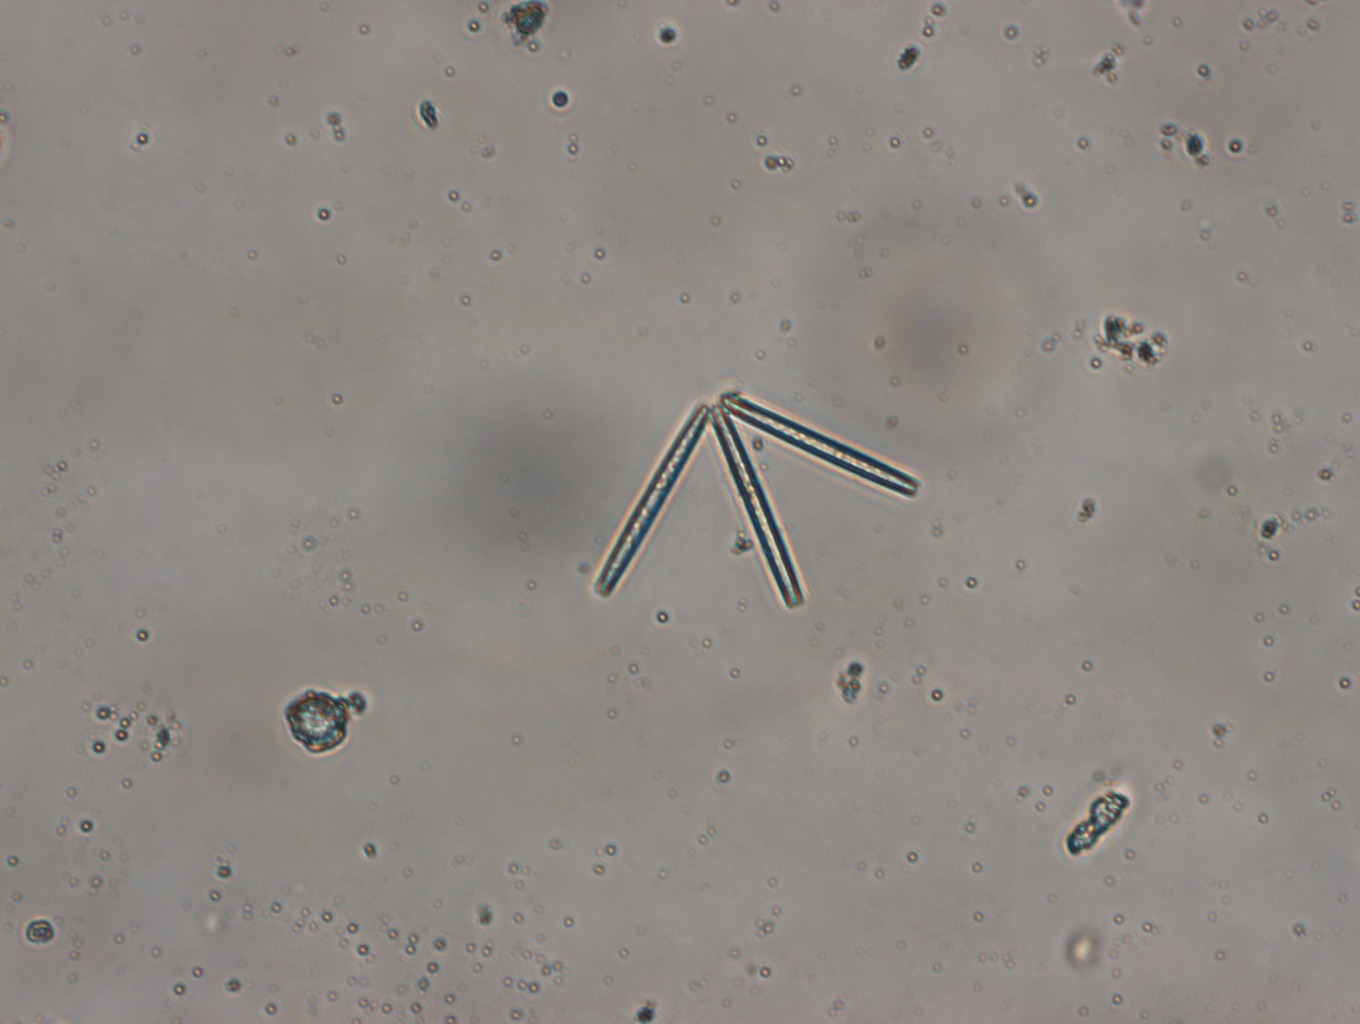thalassionema nitzschioides: (588, 376, 927, 613)
